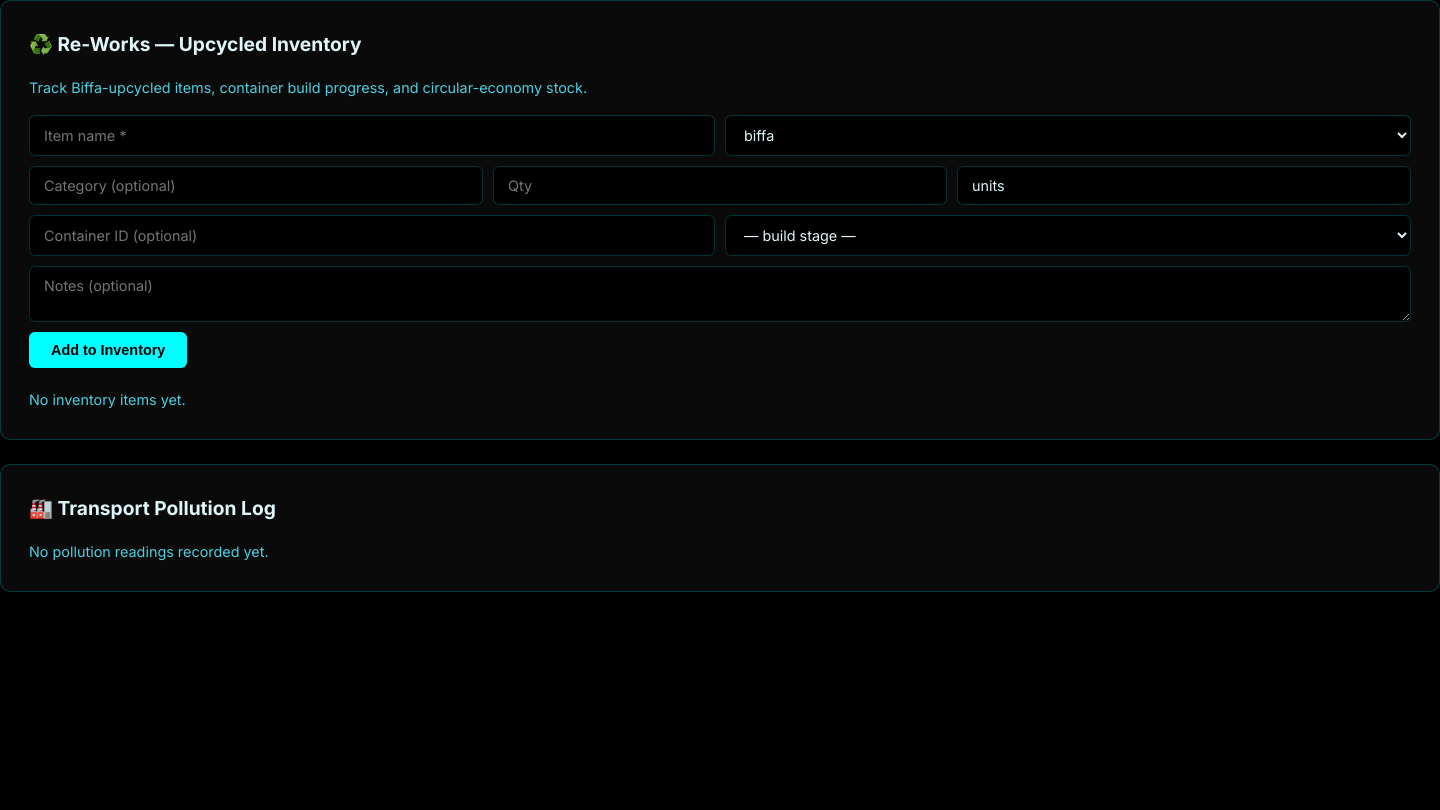
Test: ReWorks › shows success message after adding item
The width and height of the screenshot is (1440, 810).
Type "Timber Beam" into the field with placeholder "Item name *" at (372, 135), box [29,115,715,156]
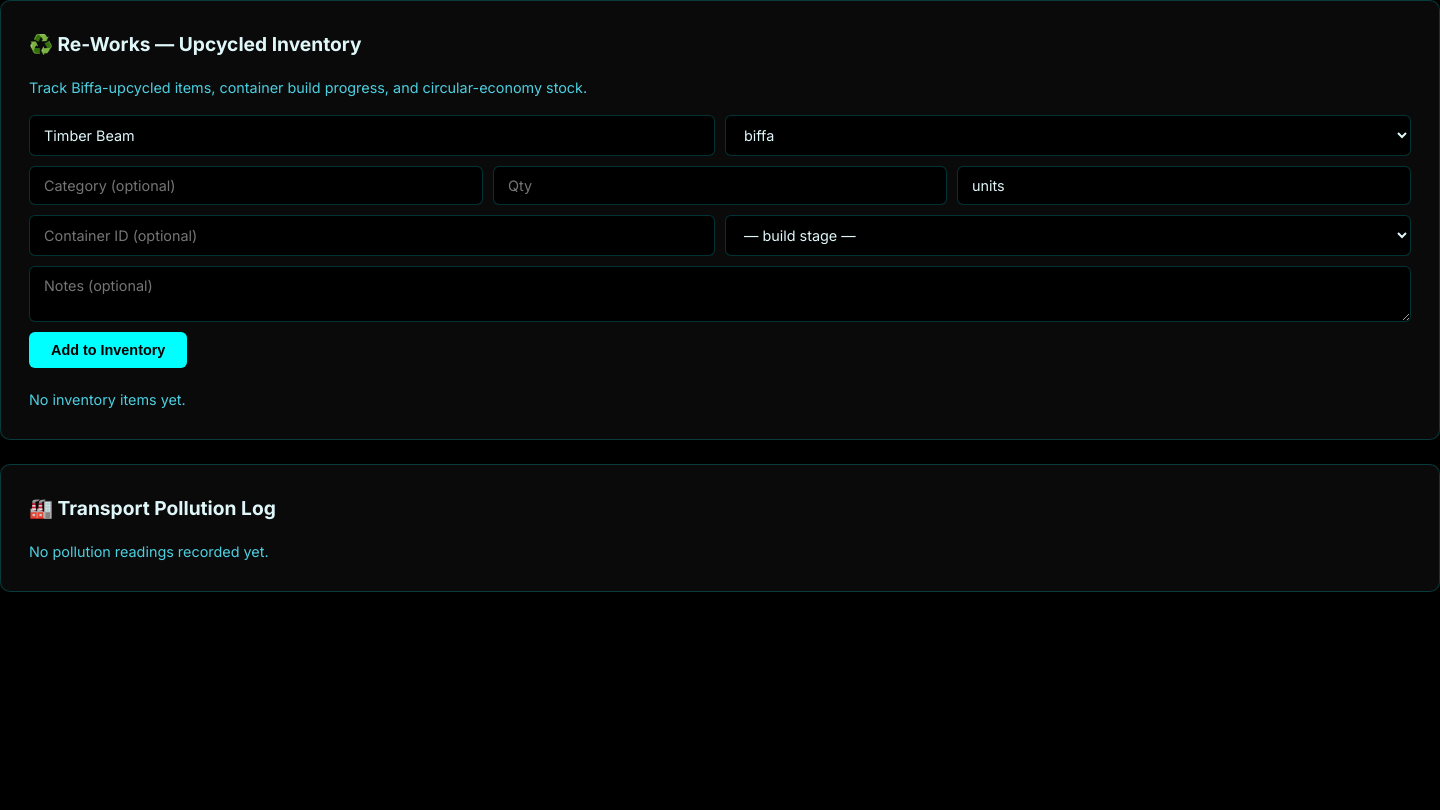
Click the button "Add to Inventory" at (108, 350), box [29,332,187,368]
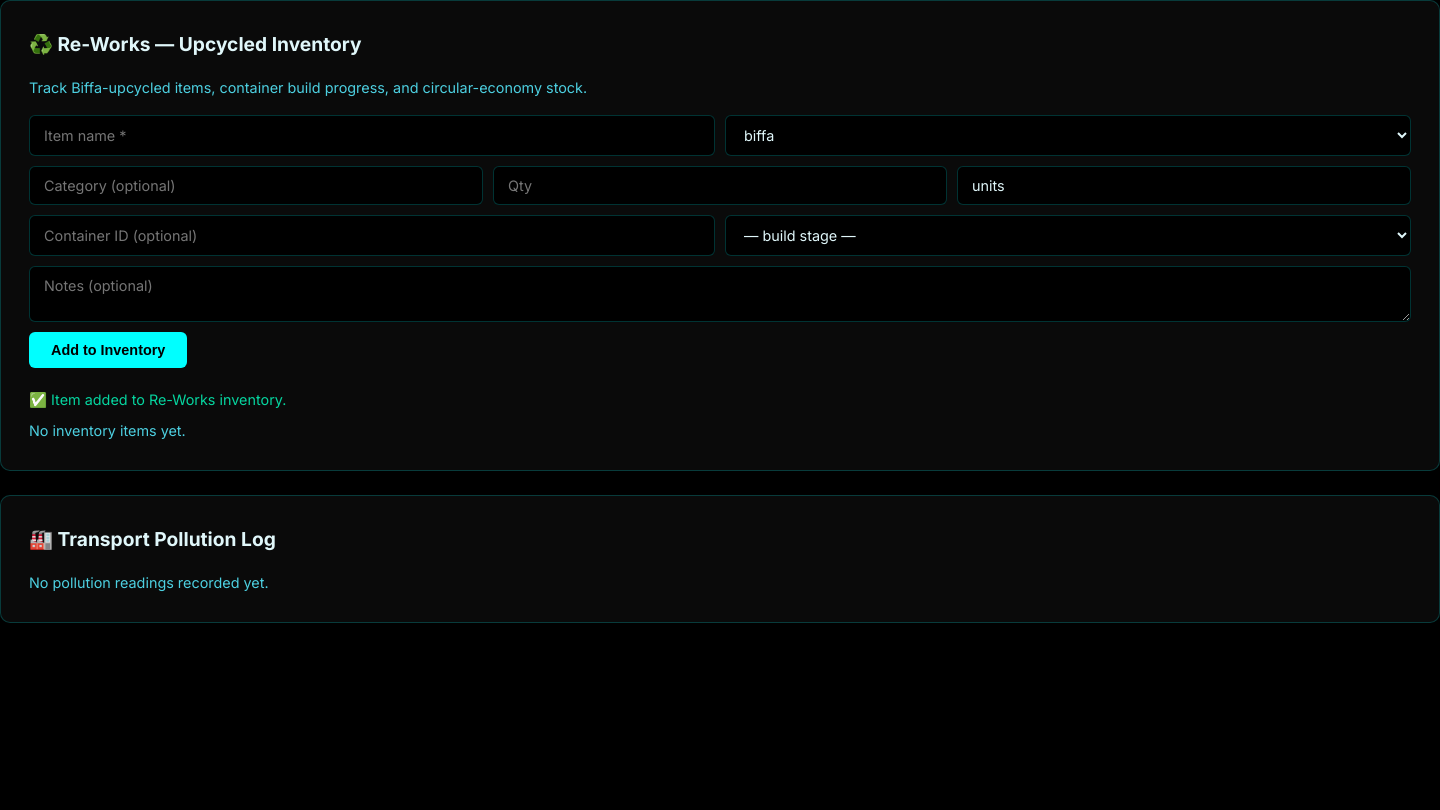
Now the text "✅ Item added to Re-Works inventory." is shown, box [29,391,286,408]
